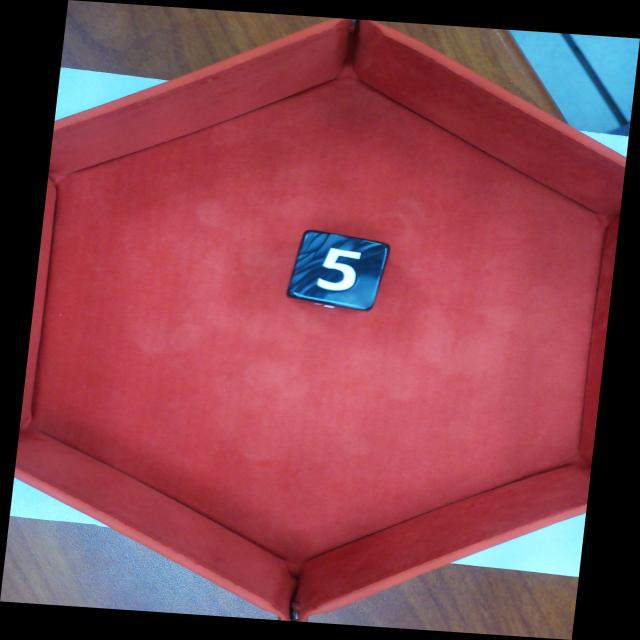dice: (284, 228, 392, 313)
